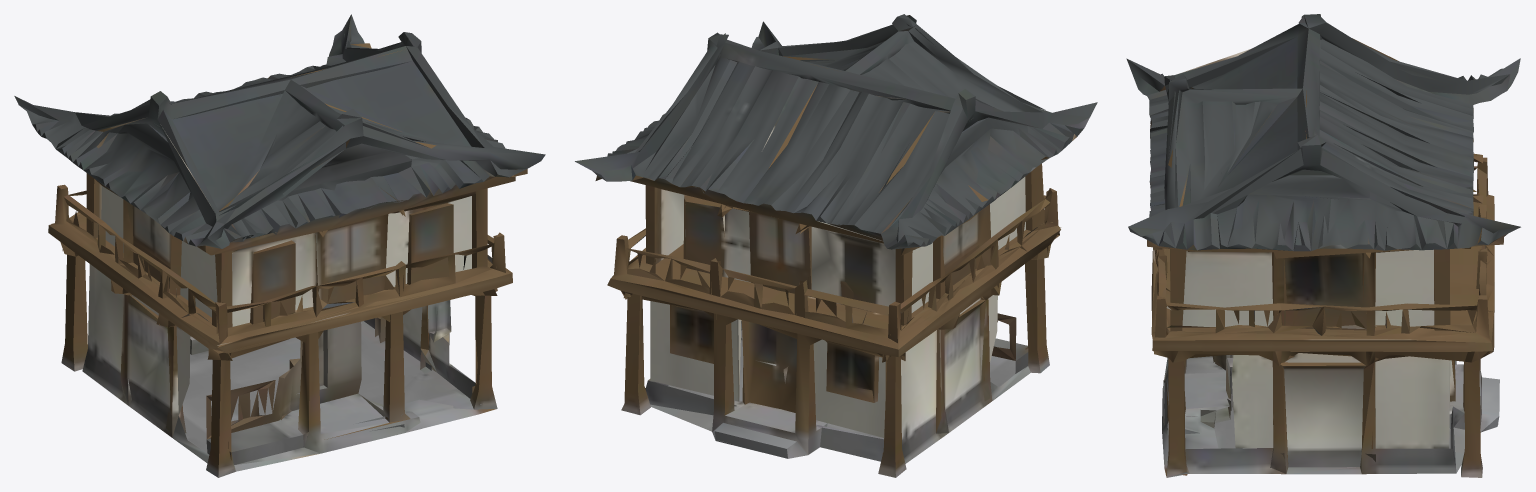
3 views of the same model, side by side, from view 1: azimuth 30°, elevation 25°; view 2: azimuth 150°, elevation 25°; view 3: azimuth 270°, elevation 25° (orthographic). The views are drawn at different scales.
Parts seen in each view (by area): view 1: geometry_0; view 2: geometry_0; view 3: geometry_0.
Part boxes in pixels (bbox=[...]): geometry_0: bbox=[14, 14, 545, 477]; geometry_0: bbox=[575, 14, 1097, 477]; geometry_0: bbox=[1126, 14, 1520, 477].
Bounding box in the file's own units: 0.9997 × 0.9232 × 0.9905.
1 material, 1 textured.
